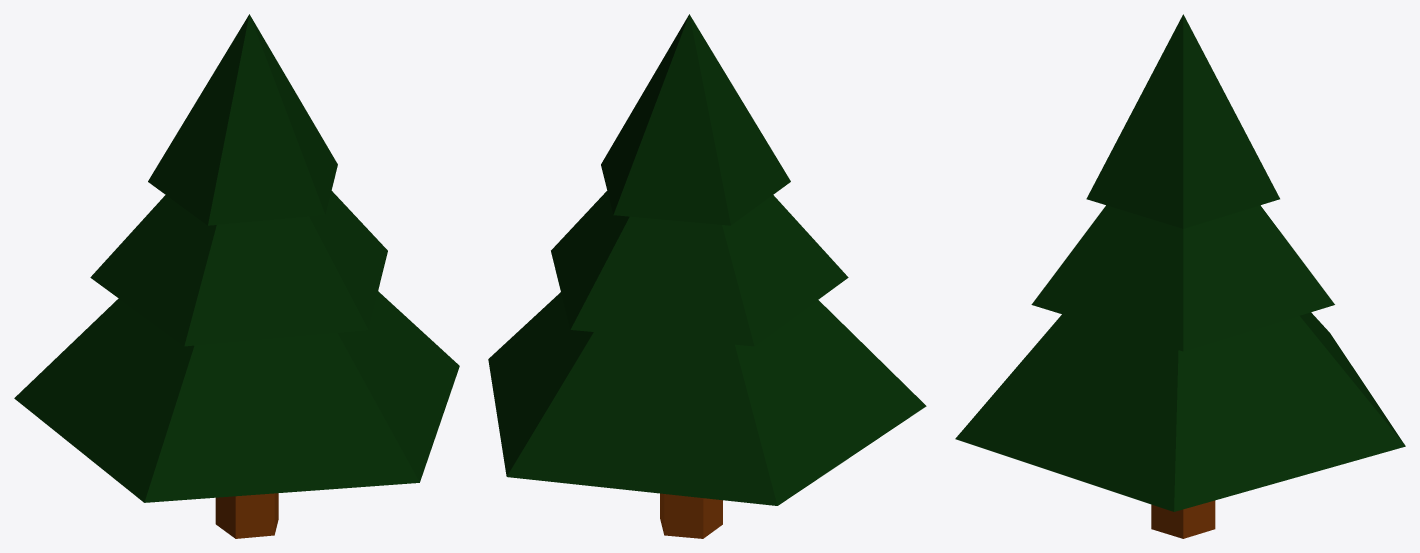
The model's file is Boom.obj.
3 renders of one model, left to right at view 1: azimuth 30°, elevation 25°; view 2: azimuth 150°, elevation 25°; view 3: azimuth 270°, elevation 25°, orthographic.
Visible parts, largest first — view 1: PineConeTree; view 2: PineConeTree; view 3: PineConeTree.
Boxes of the visible parts, x1=… form: PineConeTree: x1=14, y1=14, x2=459, y2=538; PineConeTree: x1=488, y1=14, x2=926, y2=538; PineConeTree: x1=955, y1=14, x2=1405, y2=538.
Bounding box in the file's own units: 4.58 × 5.94 × 4.76.
